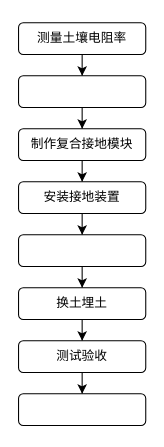
The diagram is 164 pixels wide and 447 high, and some of its shapes have lost their labels. Each missing label, with the centre of its shape:
"施用降阻剂" goes at (x=81, y=250).
"结束施工" goes at (x=81, y=409).
"设计接地装置" goes at (x=81, y=91).
